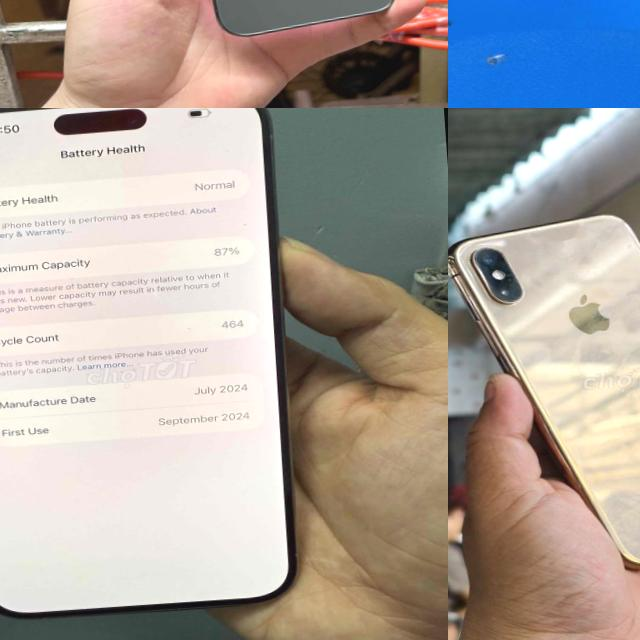gen_12_13: (165, 0, 401, 42)
gen_15: (0, 108, 312, 640)
gen_x_xs: (448, 215, 640, 565)
